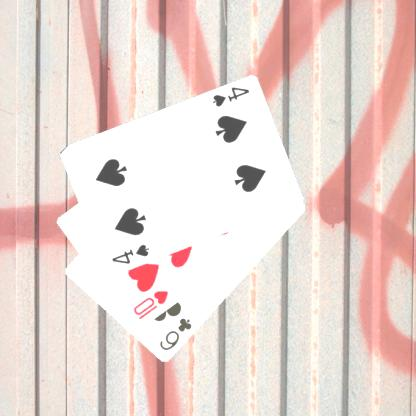10H: (130, 288, 170, 321)
4S: (209, 84, 251, 109), (109, 241, 150, 266)
6C: (157, 316, 193, 352)
